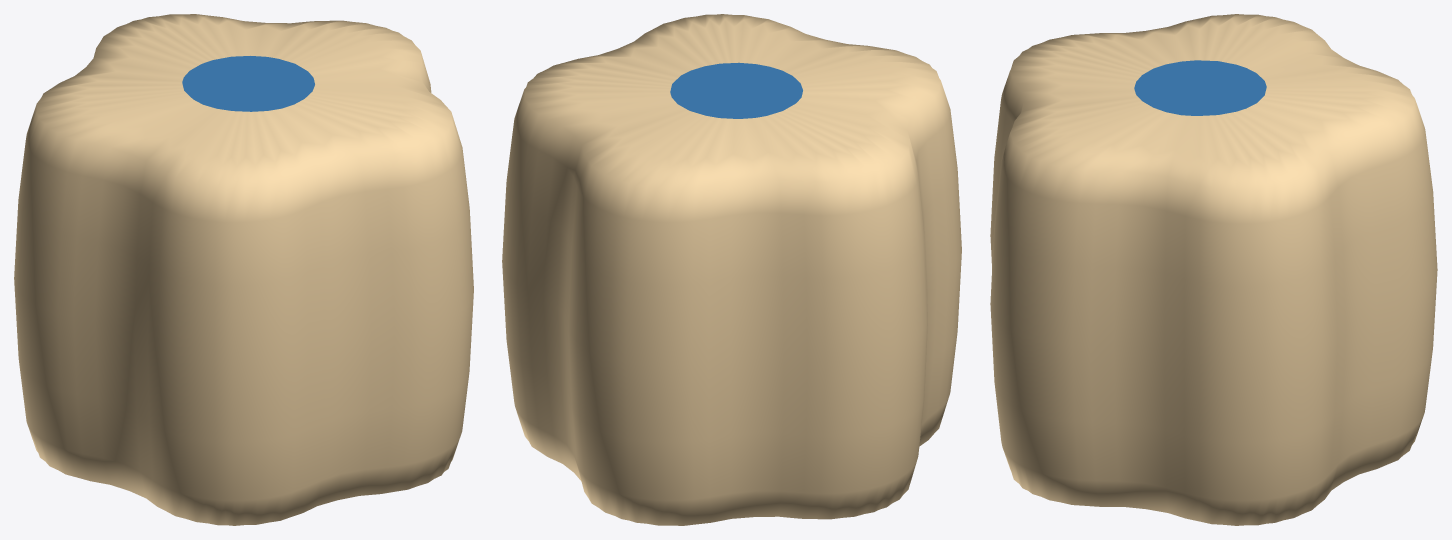
File: 花花棉花糖.glb
3 views of the same model, side by side, from view 1: azimuth 30°, elevation 25°; view 2: azimuth 150°, elevation 25°; view 3: azimuth 270°, elevation 25° (orthographic).
Visible parts, largest first — view 1: 圓形.001; view 2: 圓形.001; view 3: 圓形.001.
Boxes of the visible parts, x1,y1,x2,y2 form: 圓形.001: (14, 14, 473, 525); 圓形.001: (502, 14, 961, 525); 圓形.001: (990, 14, 1437, 525).
Bounding box in the file's own units: 1.59 × 1.39 × 1.55.
